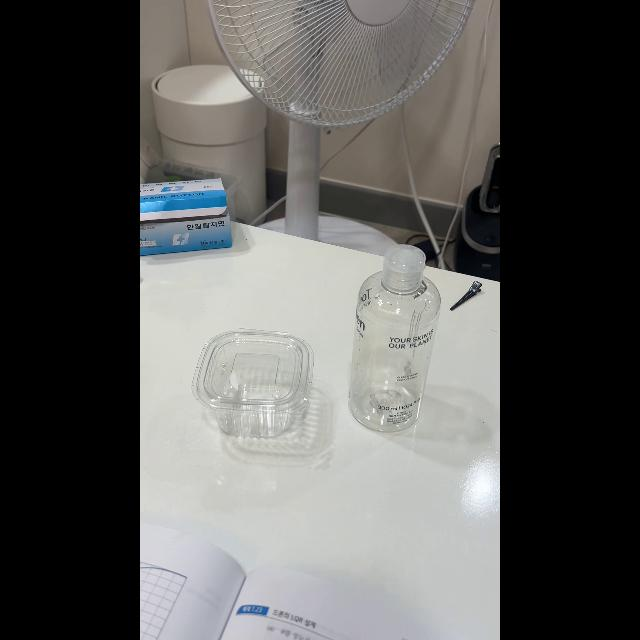clean: (346, 249, 442, 425), (200, 329, 310, 435)
